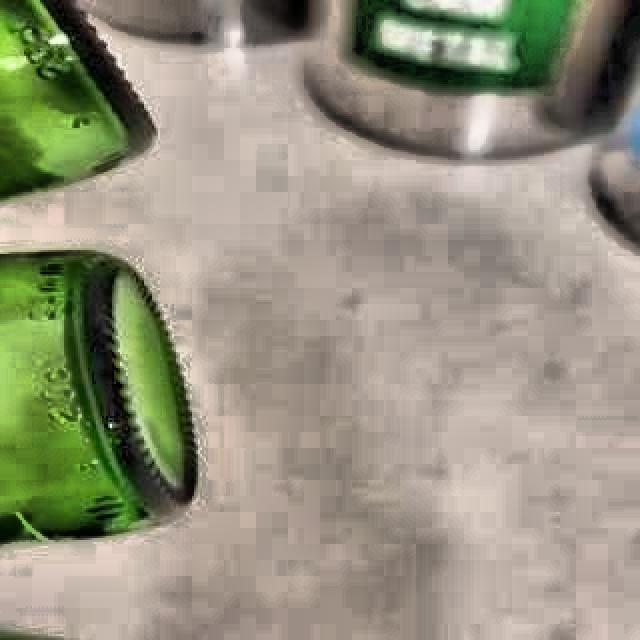glass: (0, 251, 197, 551)
